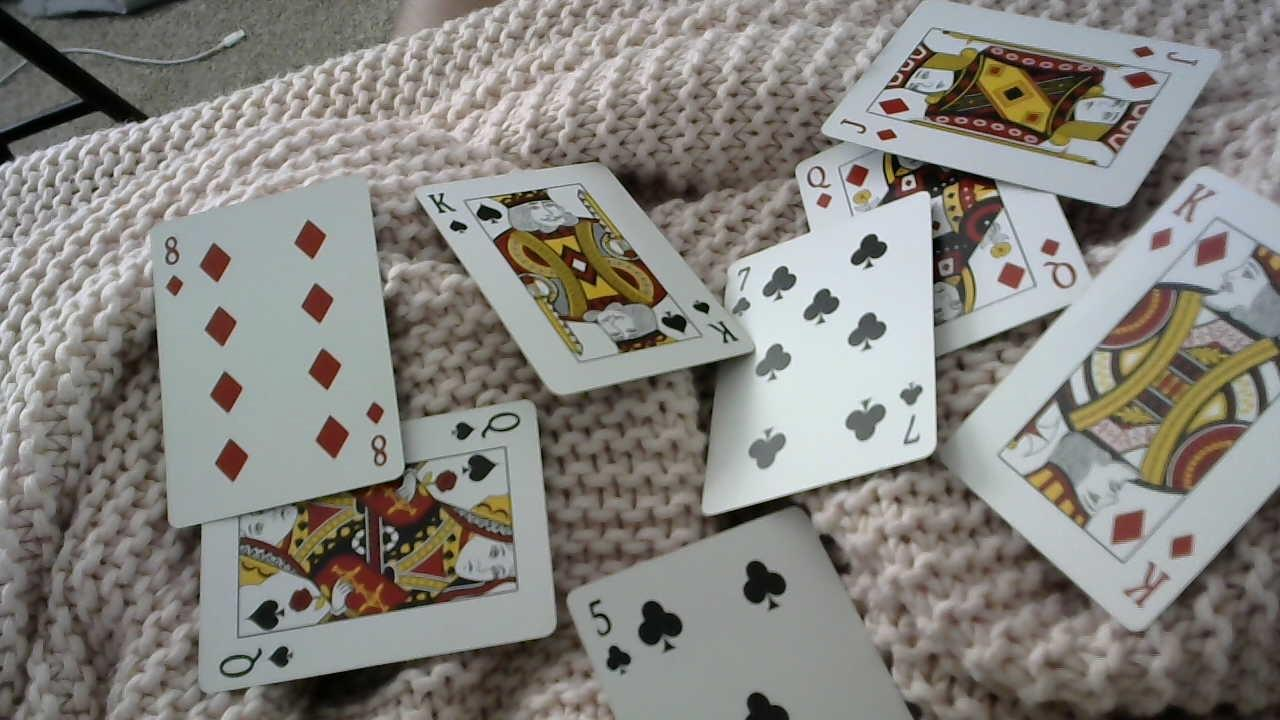5C: (579, 594, 641, 680)
7C: (892, 378, 926, 449), (728, 257, 758, 321)
8D: (362, 399, 391, 470), (159, 231, 188, 299)
JD: (1128, 38, 1216, 71), (836, 113, 902, 152)
KD: (1113, 527, 1200, 615), (1140, 172, 1224, 257)
KS: (685, 295, 739, 349), (427, 187, 475, 240)
QD: (1033, 229, 1078, 294), (803, 160, 837, 213)
QS: (211, 641, 298, 682), (449, 404, 524, 445)
